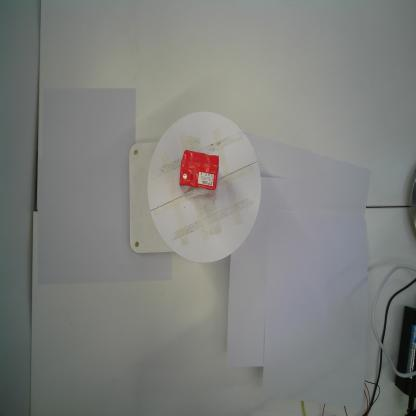Milk: (176, 146, 222, 206)
